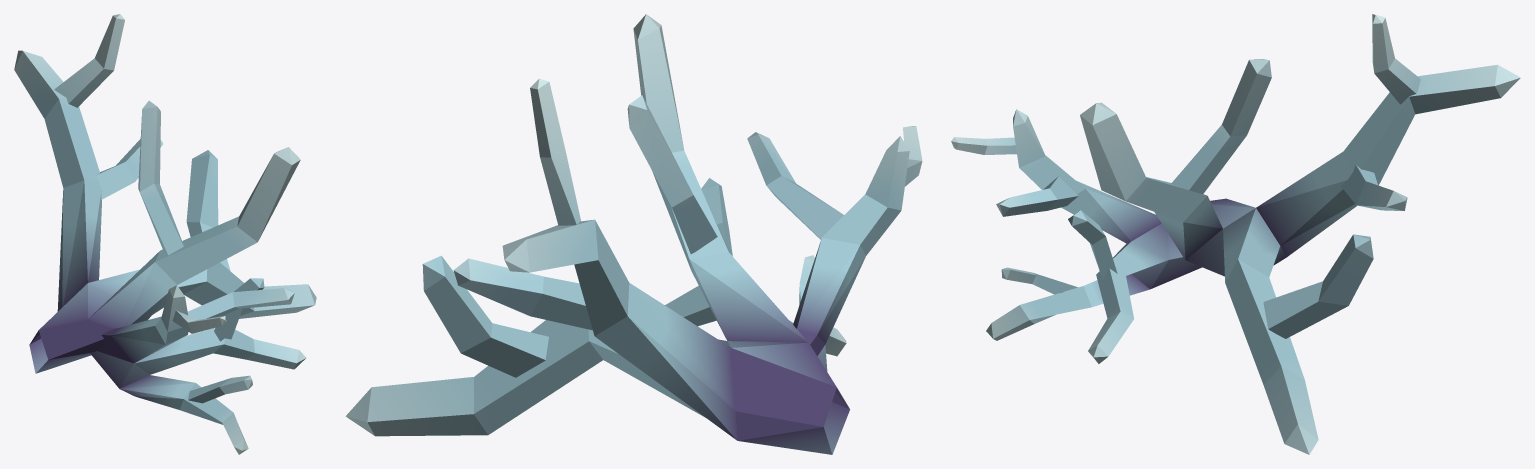
The model's file is Model_Map_Epi01_Coral09.FBX.
3 views of the same model, side by side, from view 1: azimuth 30°, elevation 25°; view 2: azimuth 150°, elevation 25°; view 3: azimuth 270°, elevation 25° (orthographic). The views are drawn at different scales.
Visible parts, largest first — view 1: Model_Map_Epi01_Coral09; view 2: Model_Map_Epi01_Coral09; view 3: Model_Map_Epi01_Coral09.
Boxes of the visible parts, left/top/right/bottom form: Model_Map_Epi01_Coral09: left=14, top=14, right=316, bottom=454; Model_Map_Epi01_Coral09: left=345, top=14, right=922, bottom=454; Model_Map_Epi01_Coral09: left=951, top=14, right=1520, bottom=454.
Bounding box in the file's own units: 119 × 114 × 164.
